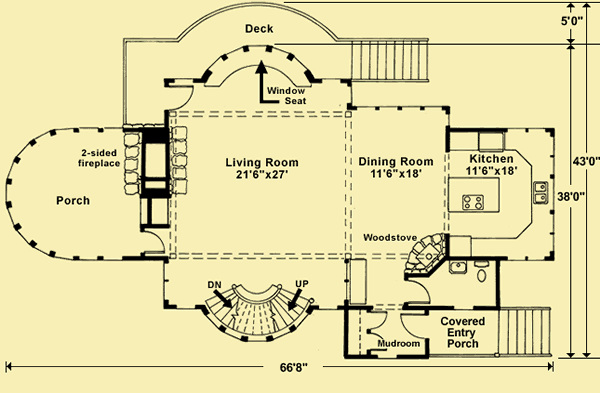door: (161, 84, 199, 112), (399, 312, 428, 343), (365, 311, 387, 351), (401, 279, 433, 305), (142, 230, 167, 256)
kitchen_bar: (446, 175, 501, 215)
large_sink: (471, 261, 492, 286)
small_sink: (447, 261, 469, 274)
stairs: (204, 279, 312, 340), (348, 39, 433, 85), (492, 307, 555, 356)
twin_sink: (531, 181, 549, 206)
